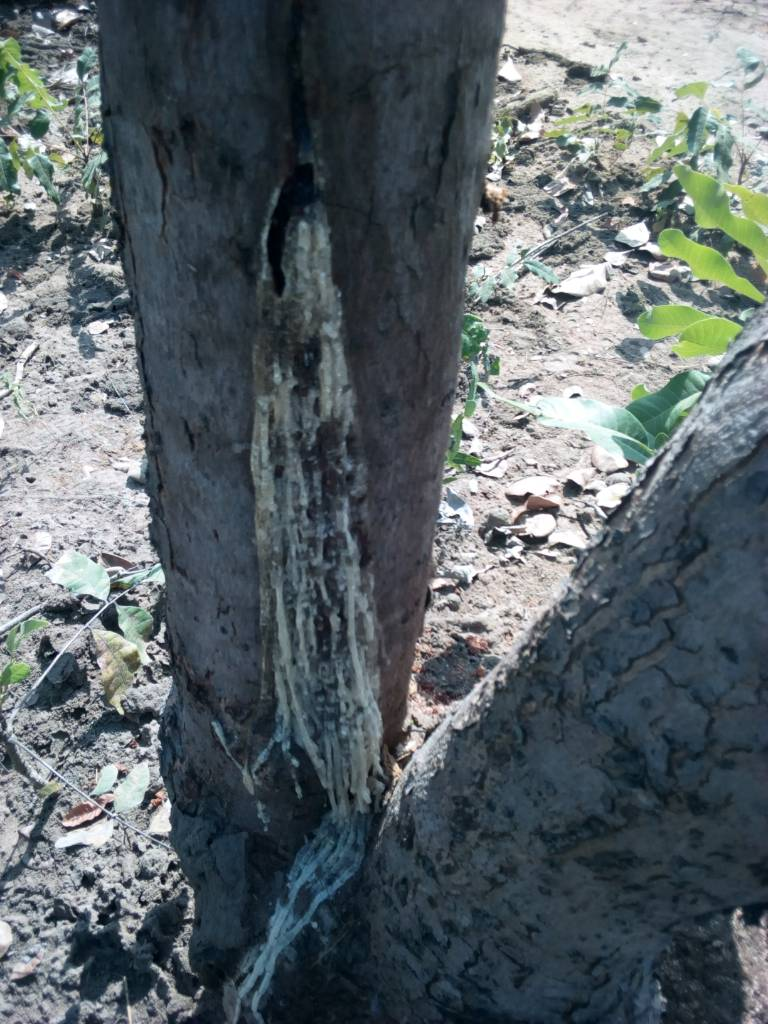Gommose: (247, 177, 407, 811)
